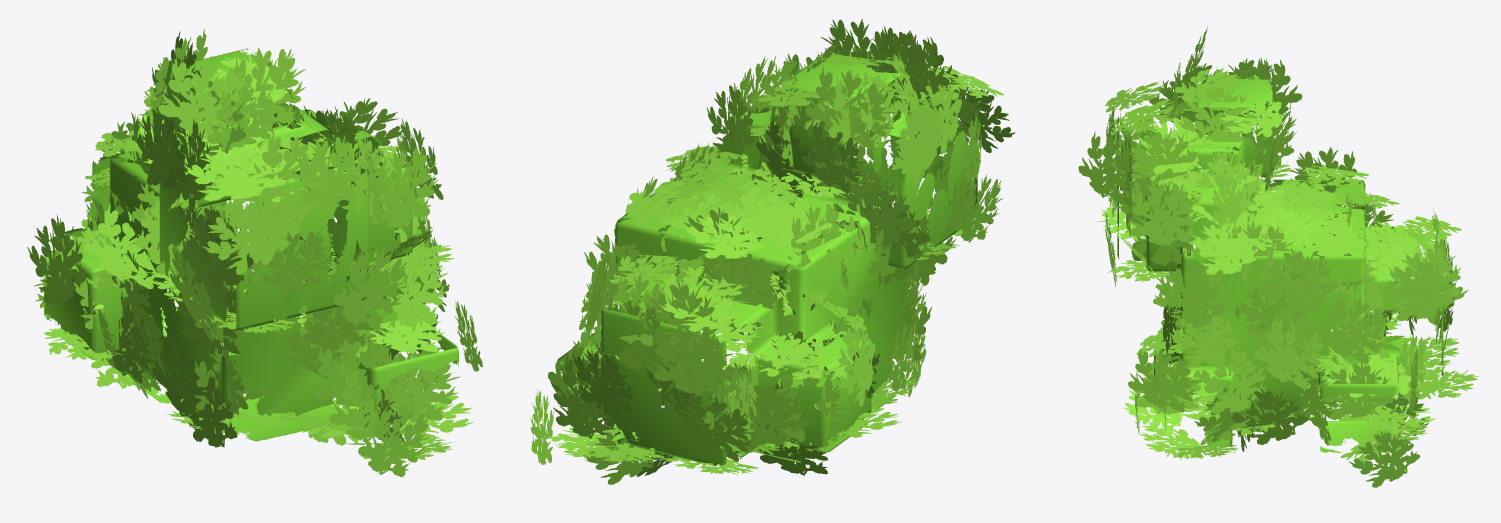
The model's file is TreeTest2.fbx.
3 views of the same model, side by side, from view 1: azimuth 30°, elevation 25°; view 2: azimuth 150°, elevation 25°; view 3: azimuth 270°, elevation 25° (orthographic). The views are drawn at different scales.
Parts seen in each view (by area): view 1: Cube; view 2: Cube; view 3: Cube.
Part boxes in pixels (left/top/right/bottom): Cube: left=27, top=29, right=482, bottom=477; Cube: left=530, top=19, right=1015, bottom=484; Cube: left=1078, top=26, right=1478, bottom=487.
Bounding box in the file's own units: 1205 × 1516 × 1505.
